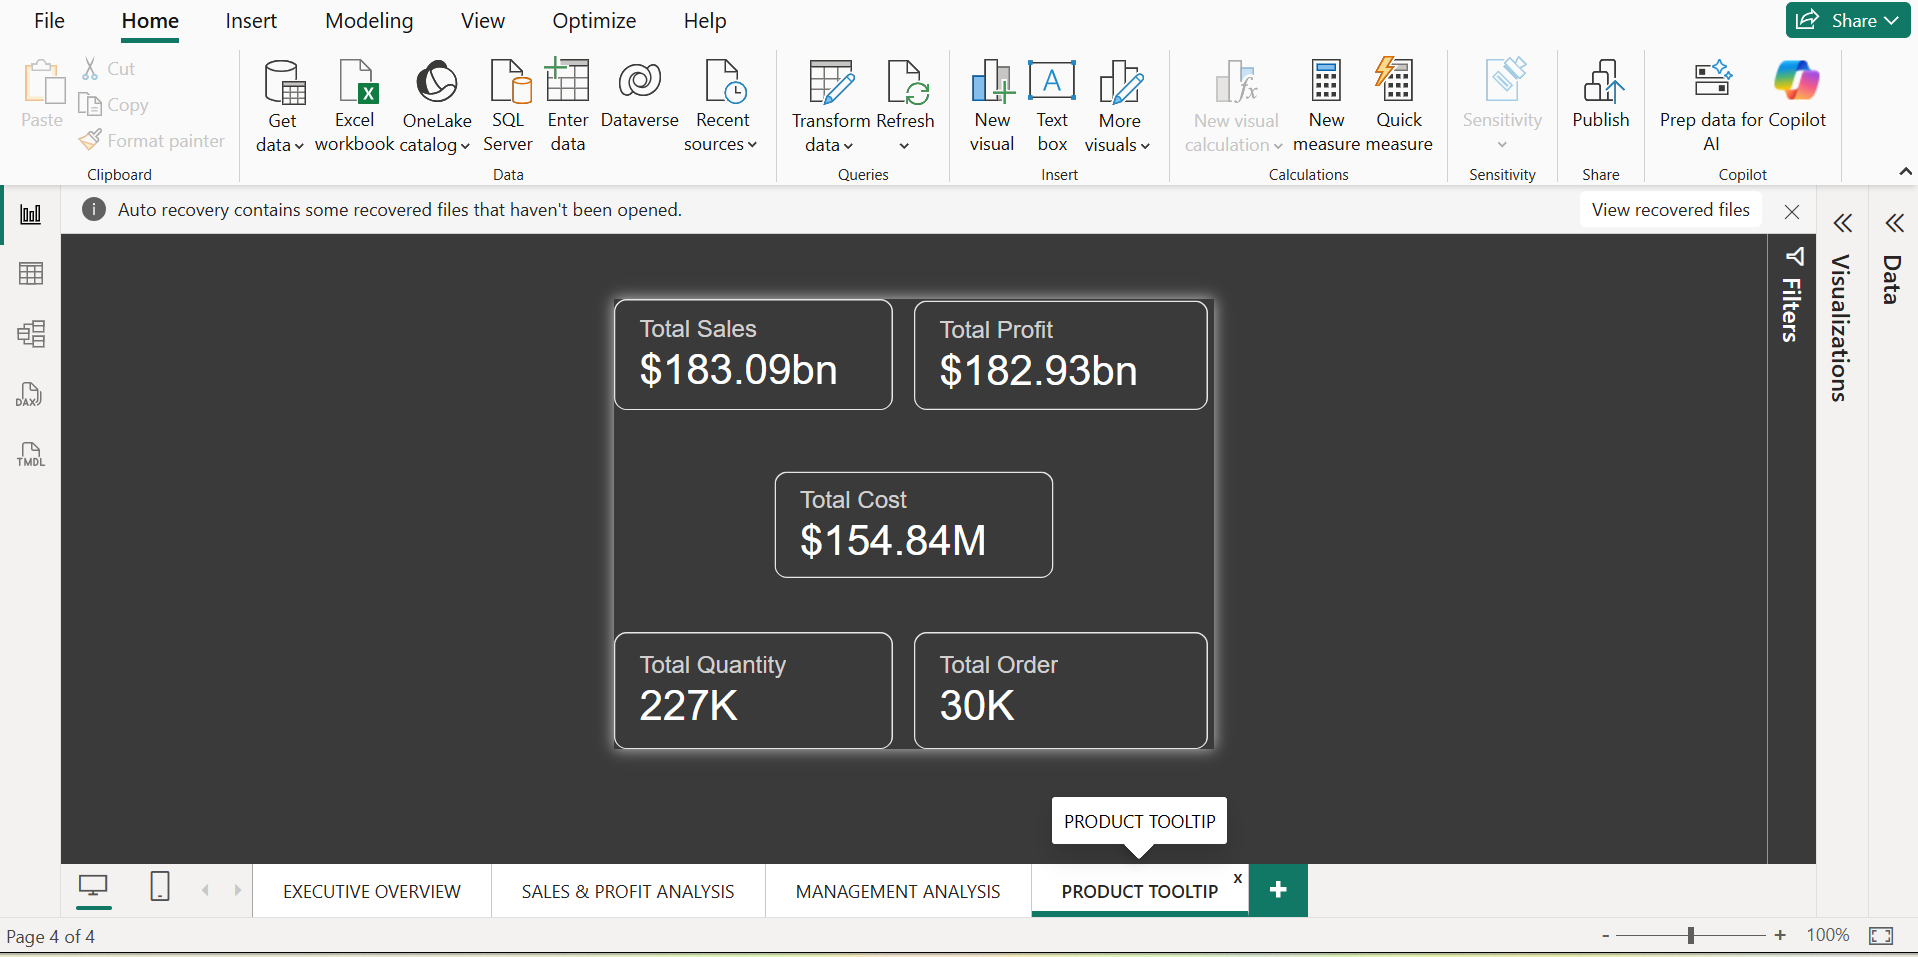

What the dashboard file says about the page in this screenshot:
{"tool":"powerbi","page":{"name":"PRODUCT TOOLTIP","canvas":[400,300],"ordinal":3},"visuals":[{"type":"cardVisual","fields":{"Data":["Dim_Customers.Total Sales"]},"box":[0,0,186,74],"z":0},{"type":"cardVisual","fields":{"Data":["Dim_Customers.Total Profit"]},"box":[200,1,196,73],"z":1000},{"type":"cardVisual","fields":{"Data":["Dim_Customers.Total Cost"]},"box":[107,115,186,71],"z":2000},{"type":"cardVisual","fields":{"Data":["Dim_Customers.Total Quantity"]},"box":[0,222,186,78],"z":3000},{"type":"cardVisual","fields":{"Data":["Dim_Customers.Total Order"]},"box":[200,222,196,78],"z":4000}]}

Visuals, with their boxes on the page's 400x300 design canvas (x1, y1, x2, y2). These are canvas units, not pixel positions in the 1918x957 screenshot, which may show the page scaled, cropped or inside an application window:
cardVisual - Dim_Customers.Total Sales: 0, 0, 186, 74
cardVisual - Dim_Customers.Total Profit: 200, 1, 396, 74
cardVisual - Dim_Customers.Total Cost: 107, 115, 293, 186
cardVisual - Dim_Customers.Total Quantity: 0, 222, 186, 300
cardVisual - Dim_Customers.Total Order: 200, 222, 396, 300
